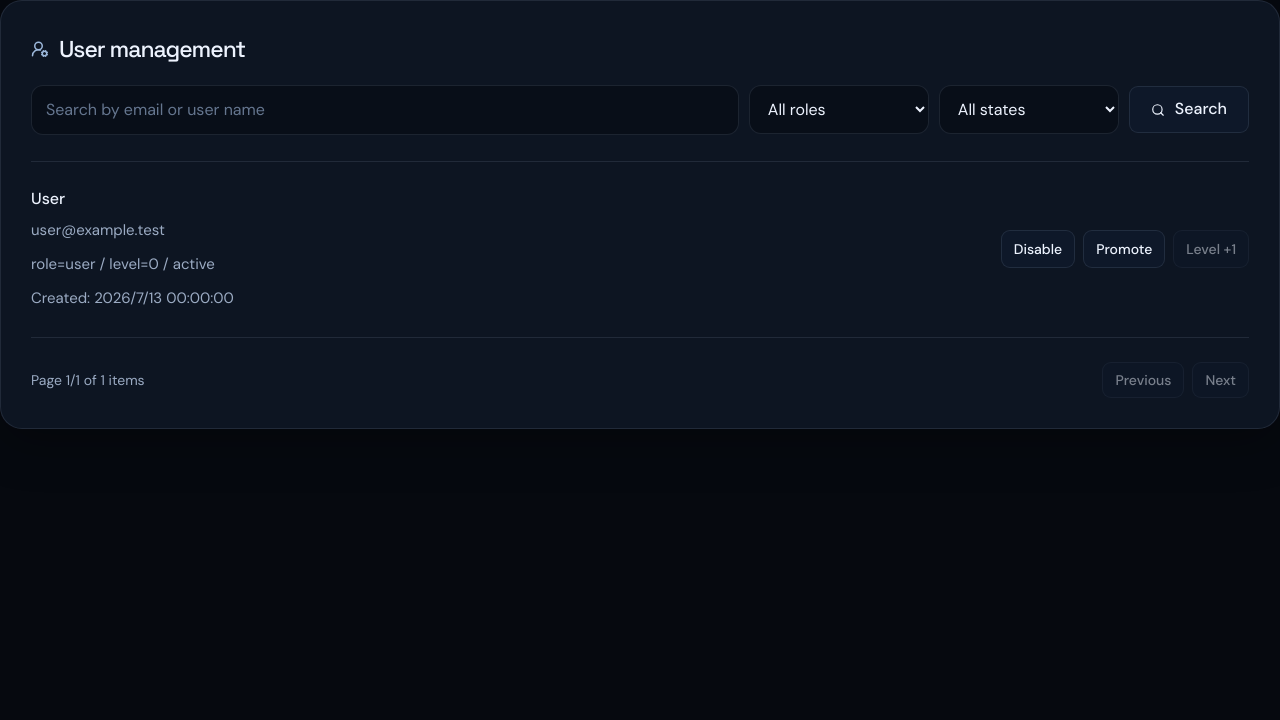
legacy admin panels › loads users and applies the existing active-state PATCH
Click the button "Disable". click: point(1038, 249)
box: [1001,230,1075,268]
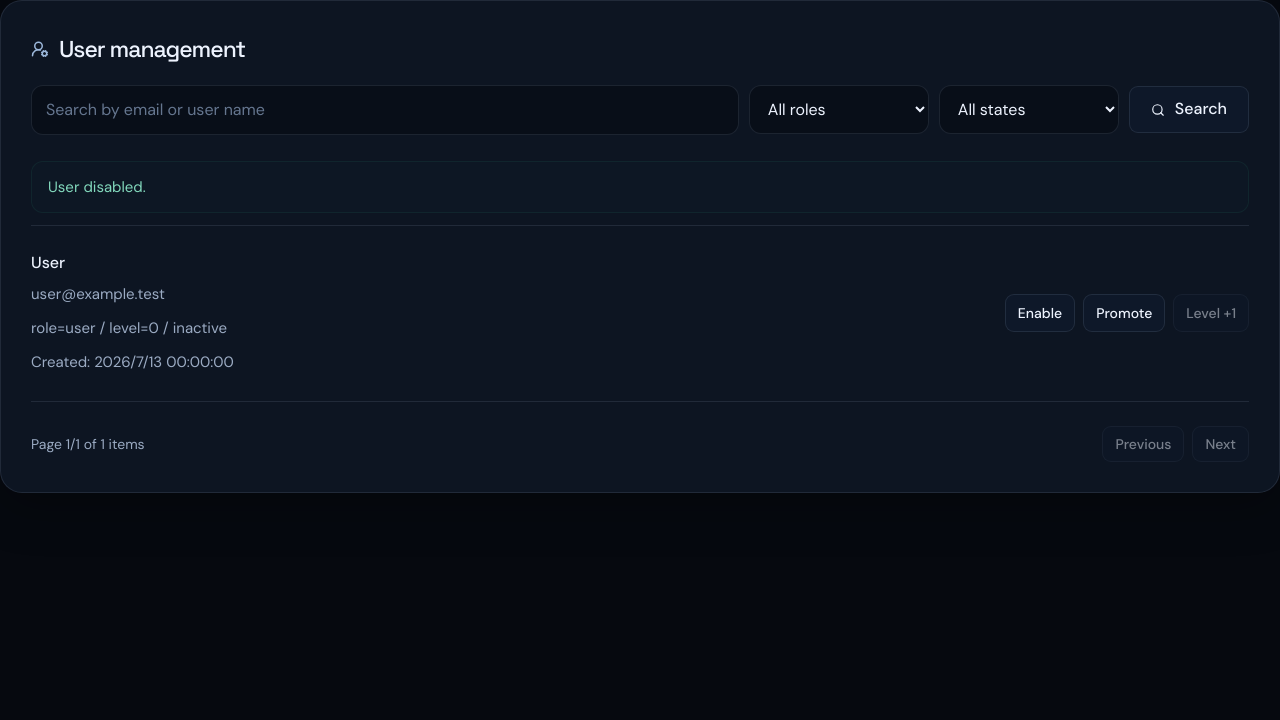
Expected: the button "Enable" is shown, [1005,294,1075,332]
